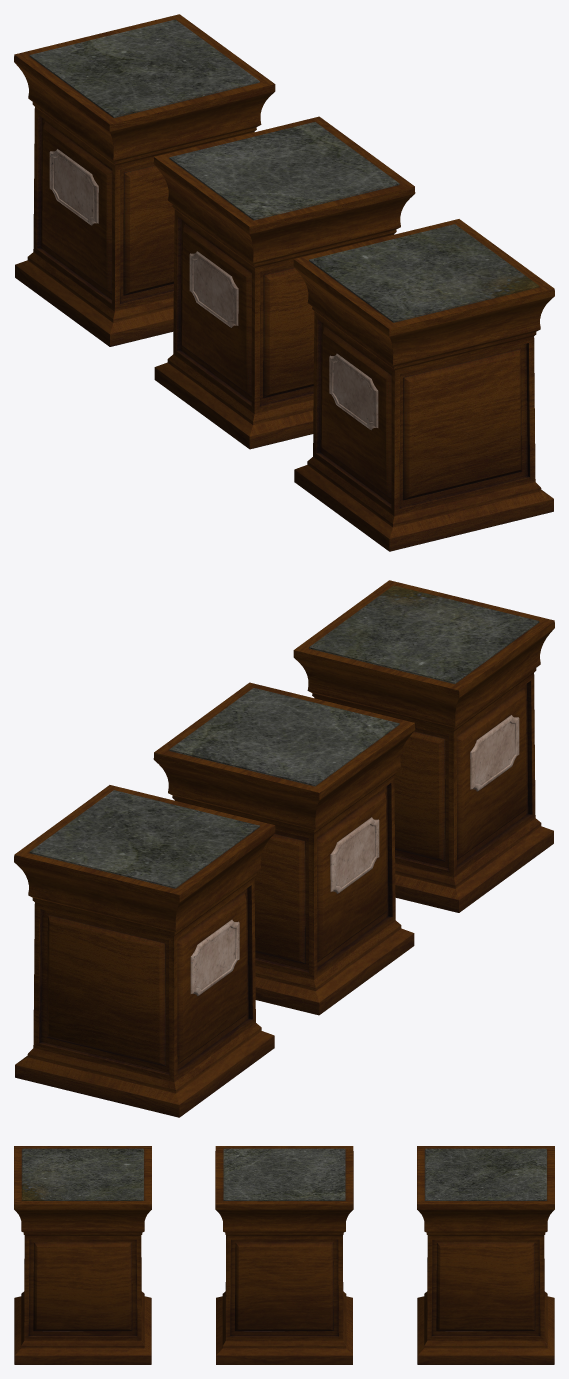
File: displays.glb
3 renders of one model, top to bottom at view 1: azimuth 30°, elevation 25°; view 2: azimuth 150°, elevation 25°; view 3: azimuth 270°, elevation 25°, orthographic. The views are drawn at different scales.
Visible parts, largest first — view 1: MuseumPlinthe03_2, MuseumPlinthe02_1, MuseumPlinthe01_0; view 2: MuseumPlinthe01_0, MuseumPlinthe02_1, MuseumPlinthe03_2; view 3: MuseumPlinthe01_0, MuseumPlinthe03_2, MuseumPlinthe02_1.
Part boxes in pixels (bbox=[...]): MuseumPlinthe03_2: bbox=[293, 219, 554, 551]; MuseumPlinthe02_1: bbox=[153, 116, 415, 449]; MuseumPlinthe01_0: bbox=[14, 14, 275, 346]; MuseumPlinthe01_0: bbox=[14, 785, 275, 1117]; MuseumPlinthe02_1: bbox=[153, 682, 415, 1015]; MuseumPlinthe03_2: bbox=[293, 580, 554, 912]; MuseumPlinthe01_0: bbox=[417, 1146, 554, 1364]; MuseumPlinthe03_2: bbox=[14, 1146, 151, 1364]; MuseumPlinthe02_1: bbox=[215, 1146, 353, 1364].
Bounding box in the file's own units: 1.45 × 1.87 × 5.67.
Materials: 3 (3 with a texture image).
